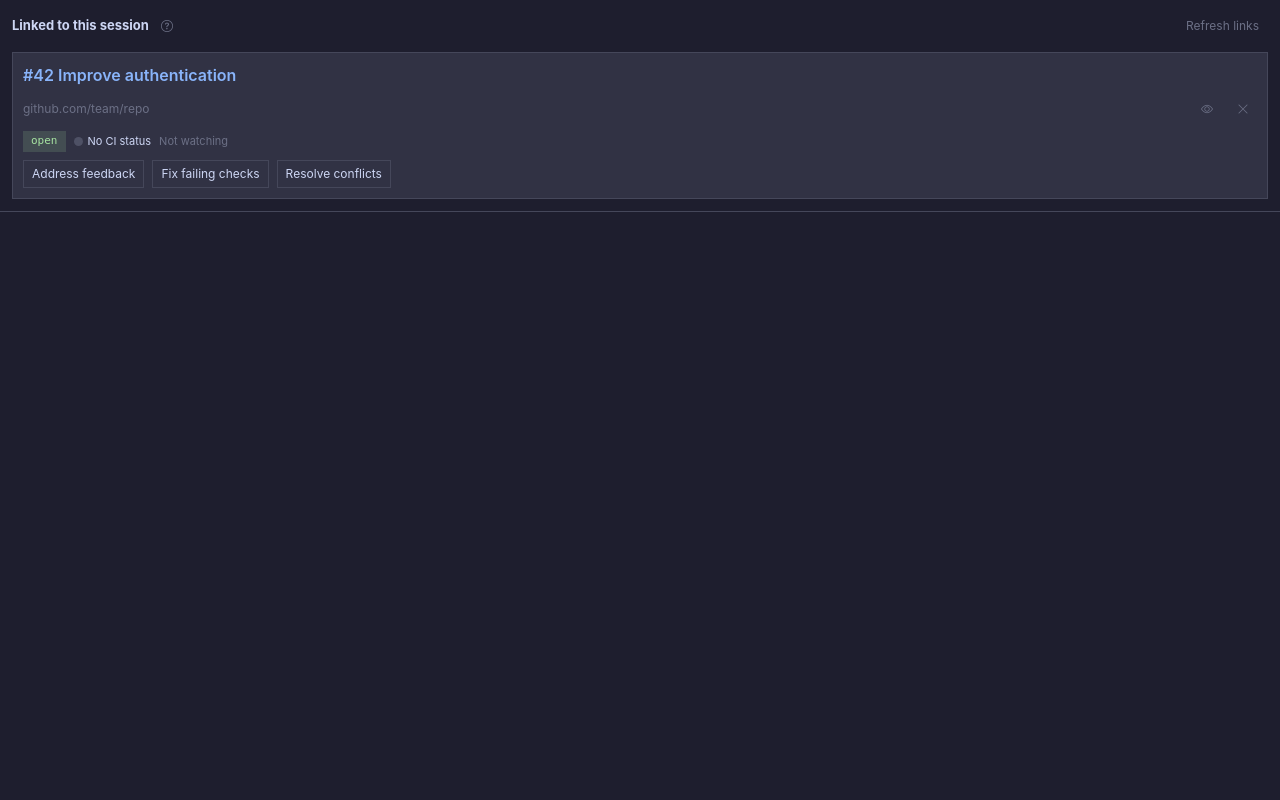
Test: SessionPullRequests › prepares Fix failing checks as an editable task without sending
Step 1. Click the button "Fix failing checks" → (210, 174), box [152, 160, 269, 188]
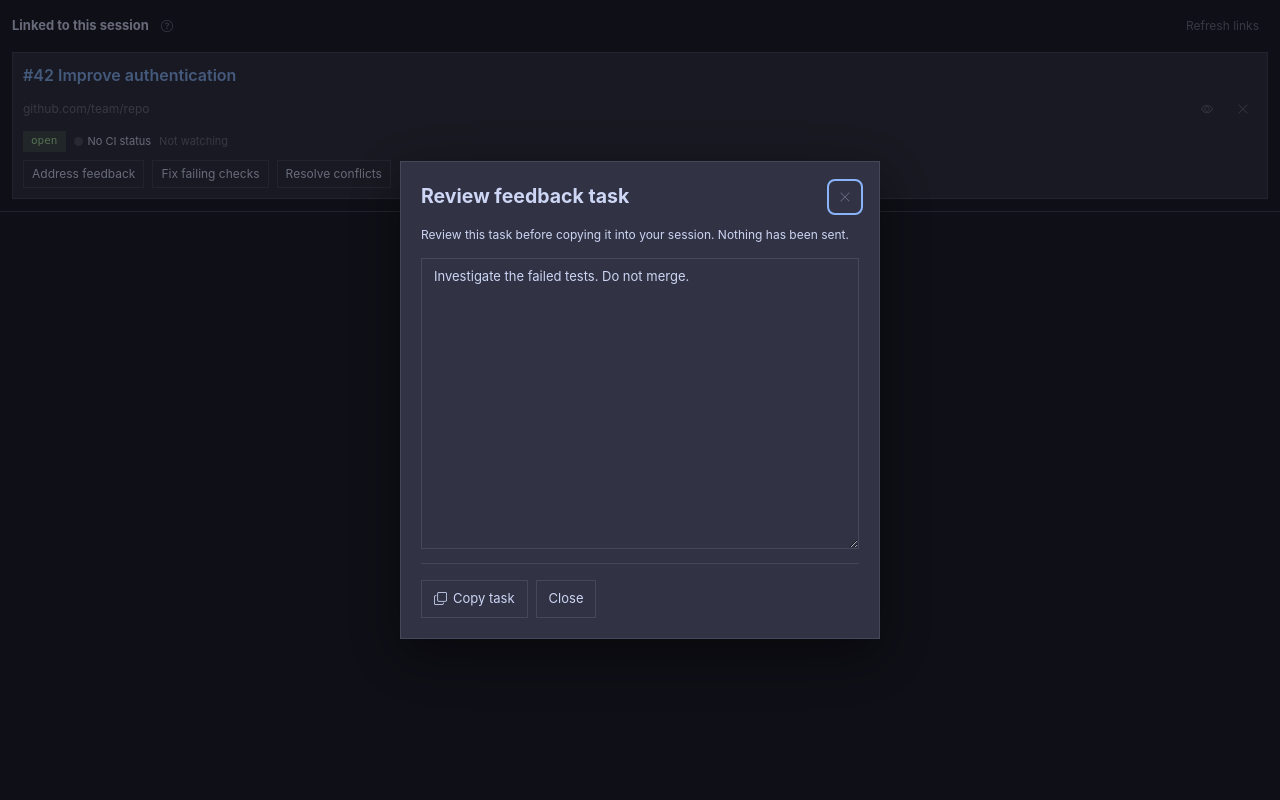
Check: the dialog "Review feedback task" is shown, box [400, 161, 880, 639]
Step 2. Replace the text in the text box named "PR feedback task" with "Edited task" → (640, 403), box [421, 258, 859, 549]
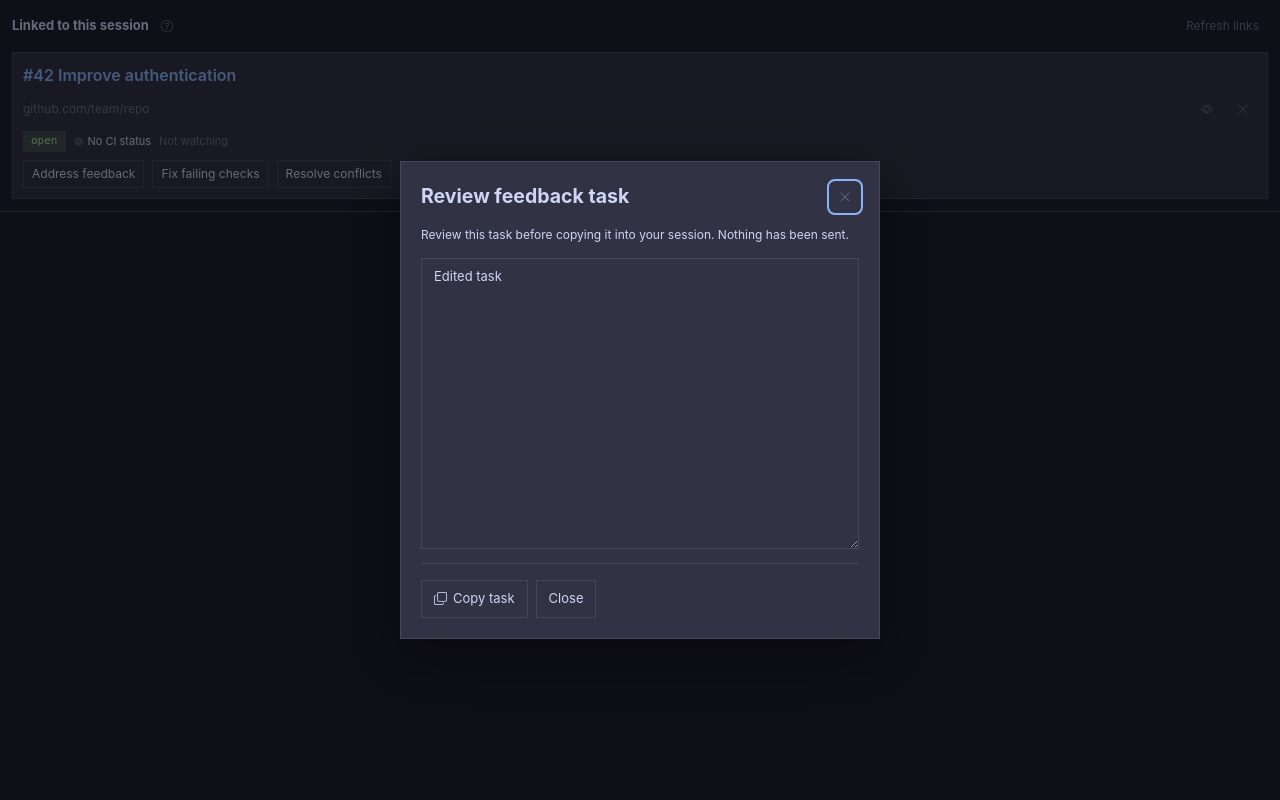
Step 3. Click the button "Close" → (566, 599), box [536, 580, 596, 618]
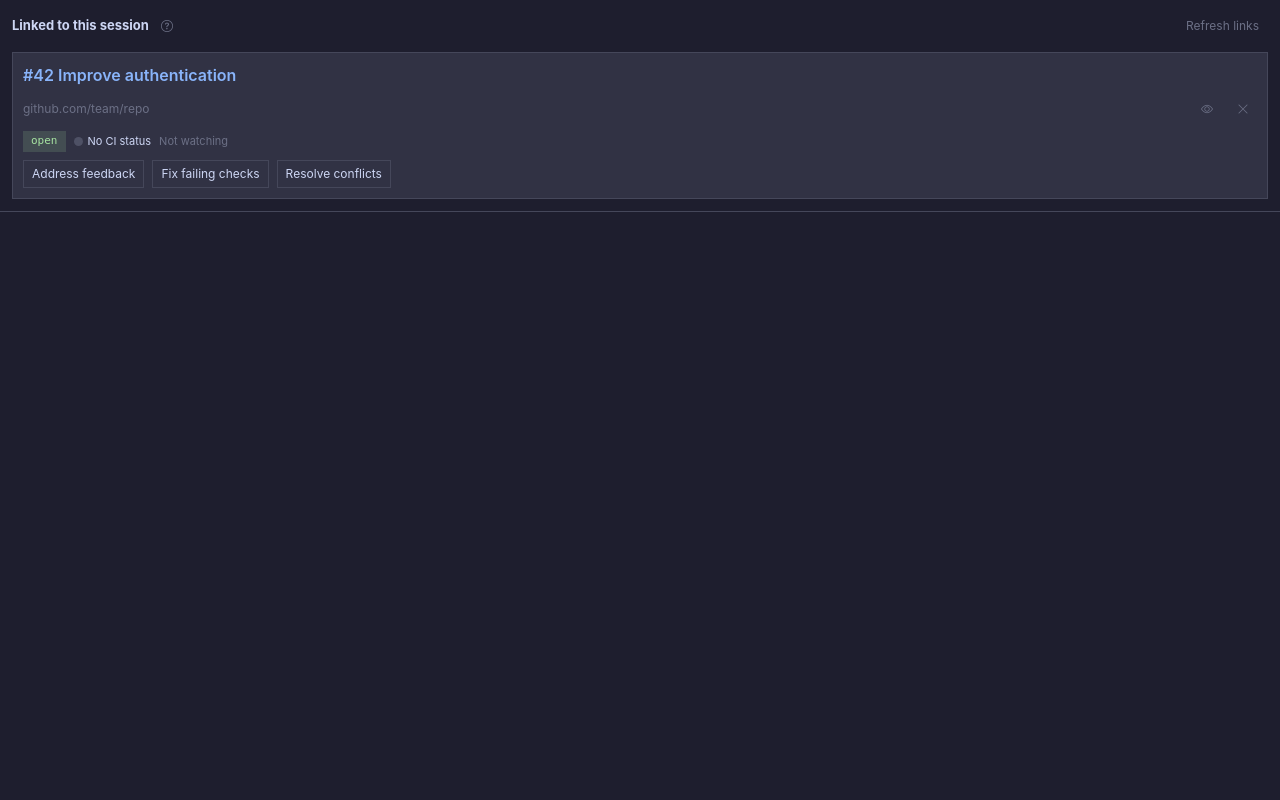
Check: the dialog is gone
